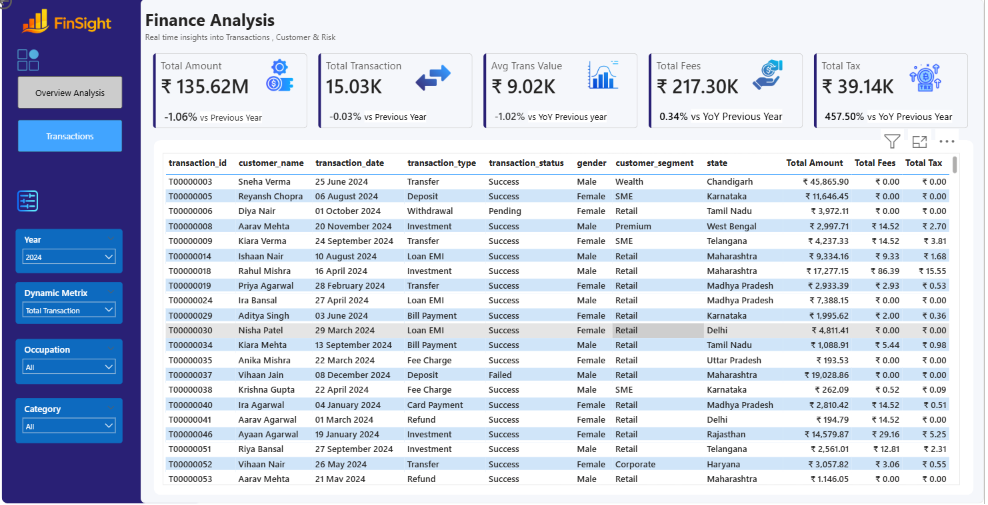

Layout of this report page (visuals, bound fields, positions):
{"tool":"powerbi","page":{"name":"Transactions","canvas":[1800,950],"ordinal":1},"visuals":[{"type":"shape","box":[17,17,364.1,916],"z":0},{"type":"shape","box":[268.3,17,1531,915.6],"z":1000},{"type":"image","box":[44.7,17,181,80.9],"z":2000},{"type":"cardVisual","fields":{"Data":["Measures (2).Dashboard Title"]},"box":[259.8,20.6,434.4,87.3],"z":3000},{"type":"cardVisual","fields":{"Data":["Measures (2).Total Amount","Measures (2).Total Transaction","Measures (2).Avg Trans Value","Measures (2).Total Fees","Measures (2).Total Tax"]},"box":[285.1,108.9,1496.2,148.9],"z":4000},{"type":"slicer","fields":{"Values":["Calendar_Table.Year"]},"box":[41.8,434,194.3,79.9],"z":5000},{"type":"image","box":[492.1,125.3,58.1,58.1],"z":6000},{"type":"image","box":[749.5,125.6,100.1,68.1],"z":7000},{"type":"image","box":[1364.9,125.6,83,57.5],"z":8000},{"type":"image","box":[1066.8,125.6,80.9,57.5],"z":9000},{"type":"image","box":[1646,125.6,93.7,68.1],"z":10000},{"type":"slicer","fields":{"Values":["Dynamic Metrix.Dynamic Metrix"]},"box":[41.8,530.2,194.3,76.3],"z":11000},{"type":"slicer","fields":{"Values":["customers.occupation"]},"box":[41.8,633.7,194.3,81.7],"z":12000},{"type":"slicer","fields":{"Values":["finance_transactions.merchant_category"]},"box":[41.8,740.8,194.3,81.7],"z":13000},{"type":"pageNavigator","box":[44.7,155.4,190.2,139.8],"z":14000},{"type":"image","box":[45.4,98.1,38.1,58.1],"z":15000},{"type":"image","box":[41.8,357.7,43.6,50.8],"z":16000},{"type":"shape","box":[292.3,272.4,1488.9,644.6],"z":17000},{"type":"tableEx","fields":{"Values":["finance_transactions.transaction_id","customers.customer_name","finance_transactions.transaction_date","finance_transactions.transaction_type","finance_transactions.transaction_status","customers.gender","customers.customer_segment","customers.state","Measures (2).Total Amount","Measures (2).Total Fees","Measures (2).Total Tax"]},"box":[308.8,296,1448,602.6],"z":18000},{"type":"actionButton","box":[0,0,100,40],"z":19000}]}

Visuals, with their boxes on the page's 1800x950 design canvas (x1, y1, x2, y2). These are canvas units, not pixel positions in the 988x505 screenshot, which may show the page scaled, cropped or inside an application window:
shape: l=17, t=17, r=381, b=933
shape: l=268, t=17, r=1799, b=933
image: l=45, t=17, r=226, b=98
cardVisual - Measures (2).Dashboard Title: l=260, t=21, r=694, b=108
cardVisual - Measures (2).Total Amount x Measures (2).Total Transaction: l=285, t=109, r=1781, b=258
slicer - Calendar_Table.Year: l=42, t=434, r=236, b=514
image: l=492, t=125, r=550, b=183
image: l=750, t=126, r=850, b=194
image: l=1365, t=126, r=1448, b=183
image: l=1067, t=126, r=1148, b=183
image: l=1646, t=126, r=1740, b=194
slicer - Dynamic Metrix.Dynamic Metrix: l=42, t=530, r=236, b=606
slicer - customers.occupation: l=42, t=634, r=236, b=715
slicer - finance_transactions.merchant_category: l=42, t=741, r=236, b=822
pageNavigator: l=45, t=155, r=235, b=295
image: l=45, t=98, r=84, b=156
image: l=42, t=358, r=85, b=408
shape: l=292, t=272, r=1781, b=917
tableEx - finance_transactions.transaction_id x customers.customer_name: l=309, t=296, r=1757, b=899
actionButton: l=0, t=0, r=100, b=40
